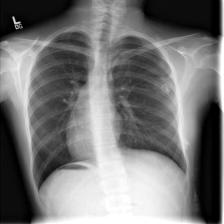normal: (25, 27, 192, 193)
